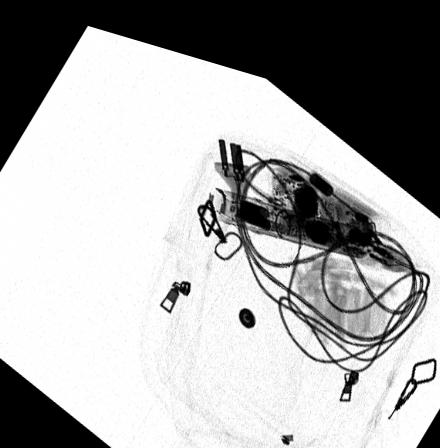Baton: (205, 172, 372, 238)
